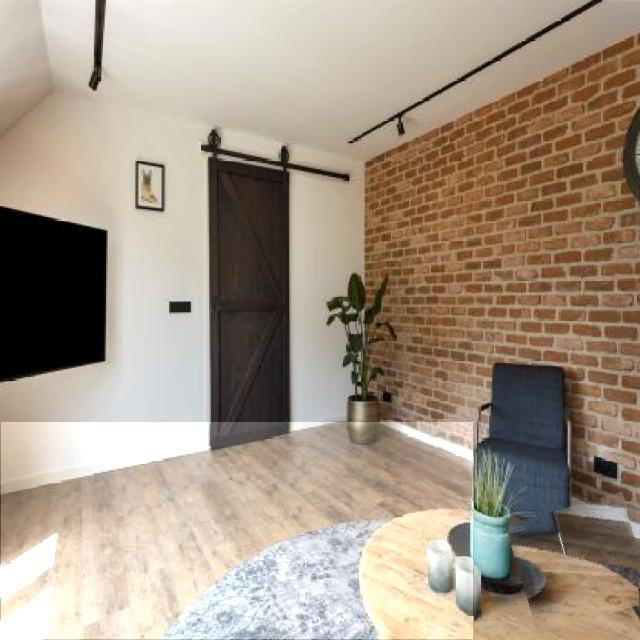floor: (2, 422, 473, 640), (511, 511, 639, 591)
